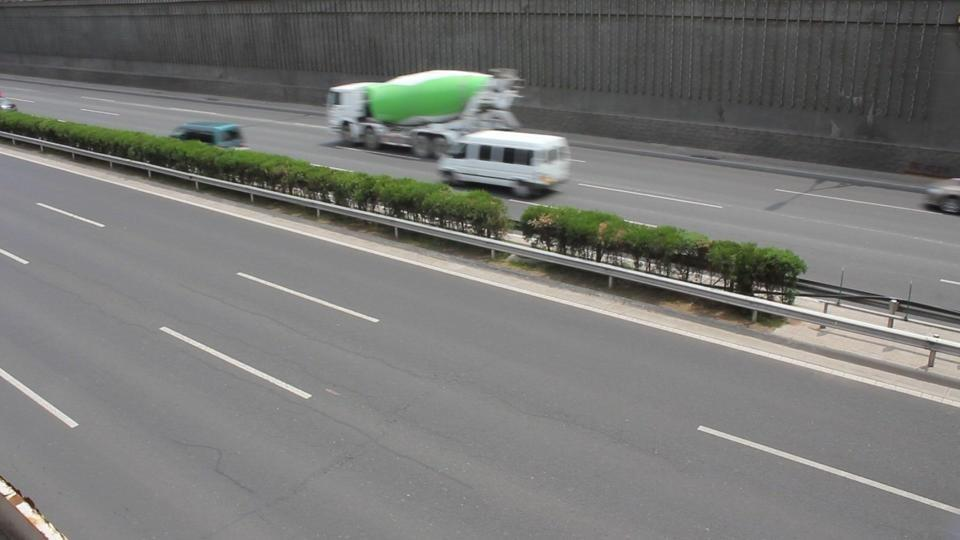car: (168, 119, 244, 147), (923, 179, 960, 216), (0, 97, 17, 111)
